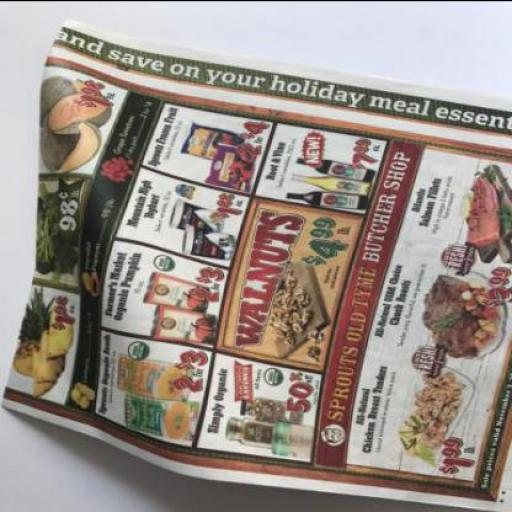paper: (1, 15, 511, 511)
